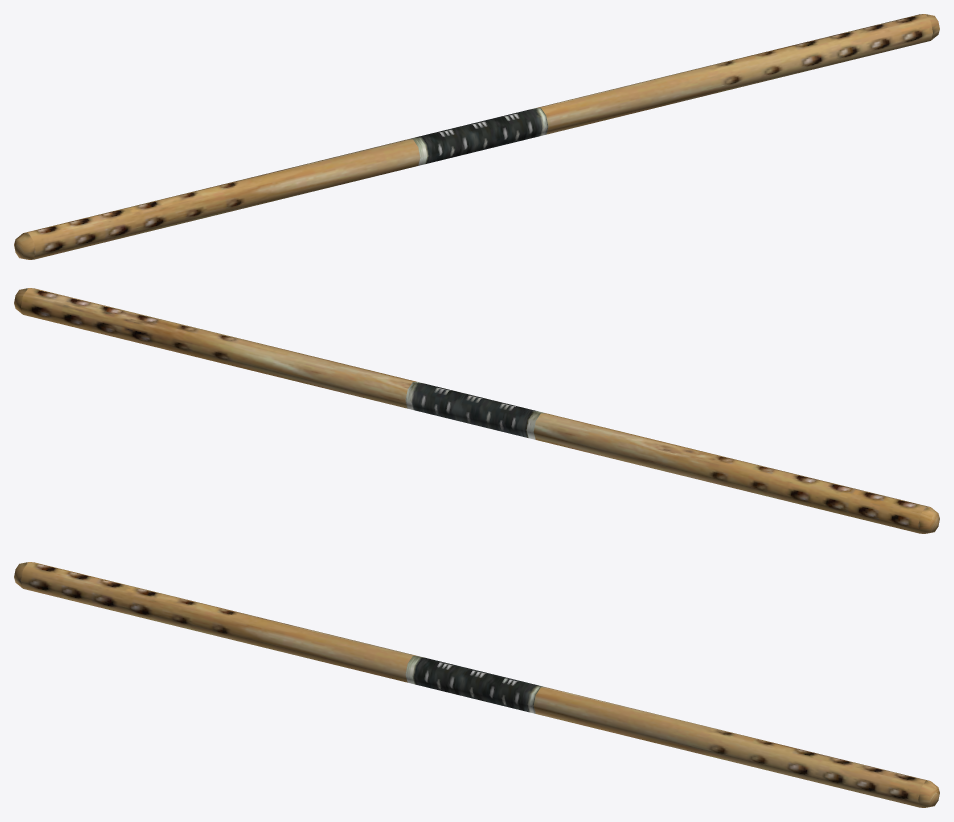
The picture shows the model from 3 angles, top to bottom: view 1: azimuth 30°, elevation 25°; view 2: azimuth 150°, elevation 25°; view 3: azimuth 330°, elevation 25°; orthographic projection.
Parts seen in each view (by area): view 1: it10521; view 2: it10521; view 3: it10521.
Part boxes in pixels (<box>): it10521: <box>14,14,939,259</box>; it10521: <box>14,288,939,533</box>; it10521: <box>14,562,939,807</box>.
Bounding box in the file's own units: 7.2 × 0.2002 × 0.2002.
2 materials, 2 textured.
